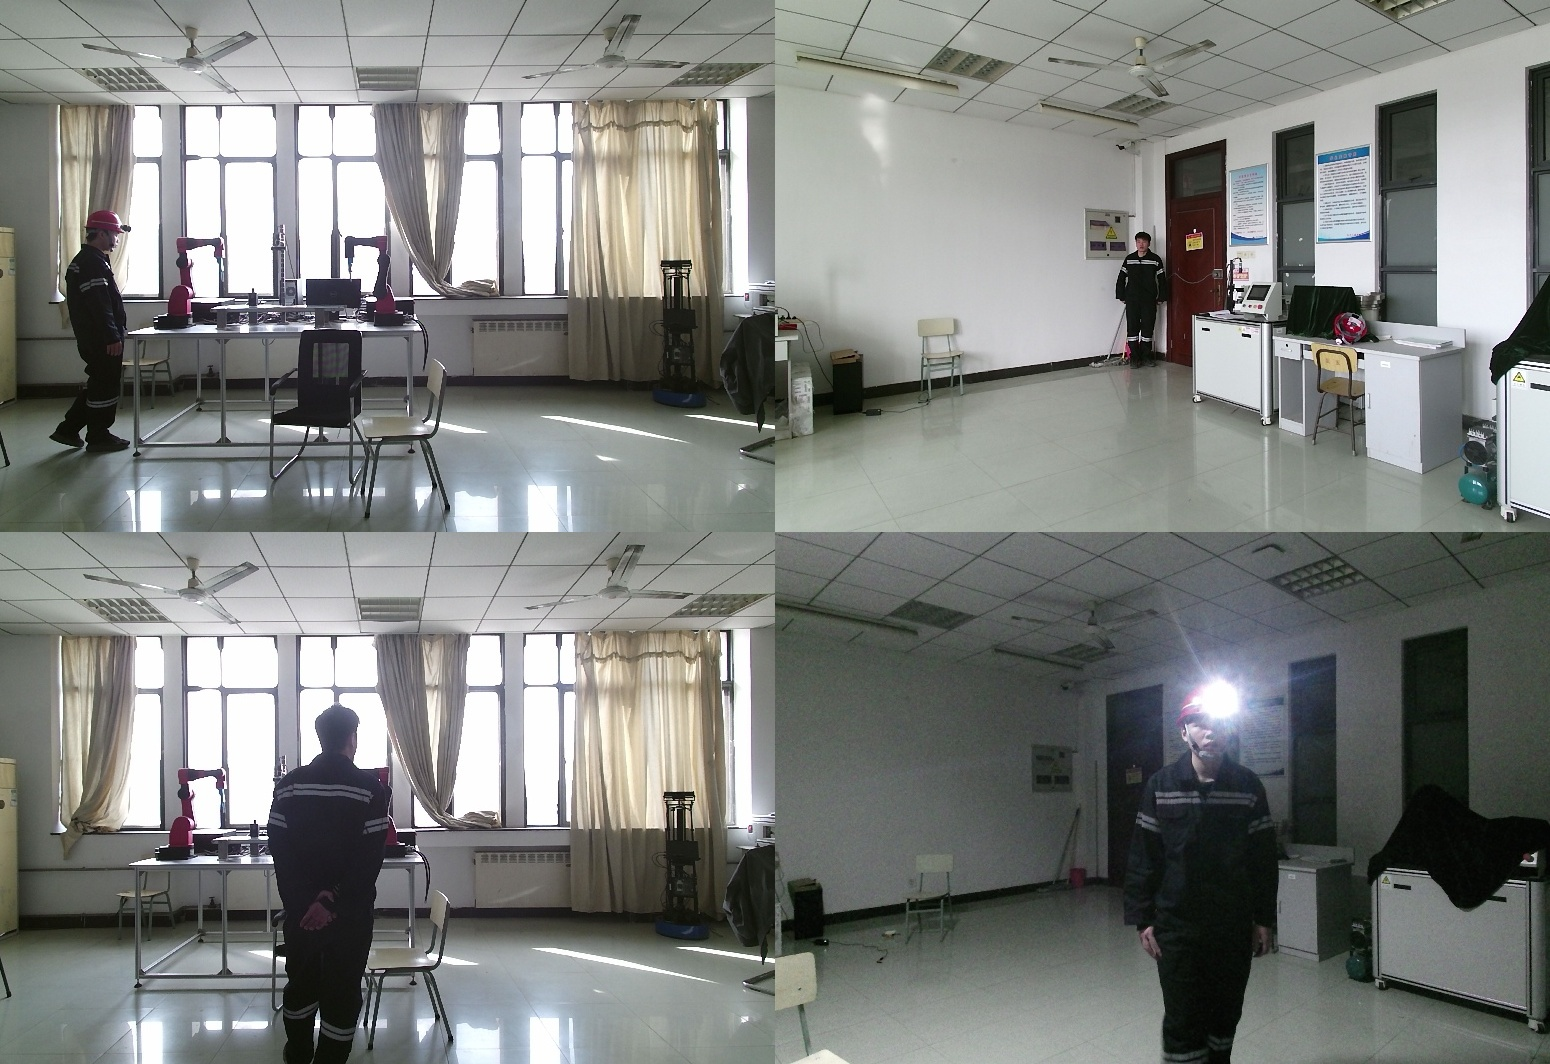person: (1132, 681, 1293, 1064), (265, 705, 413, 1064), (49, 211, 138, 456), (1118, 233, 1171, 370)
